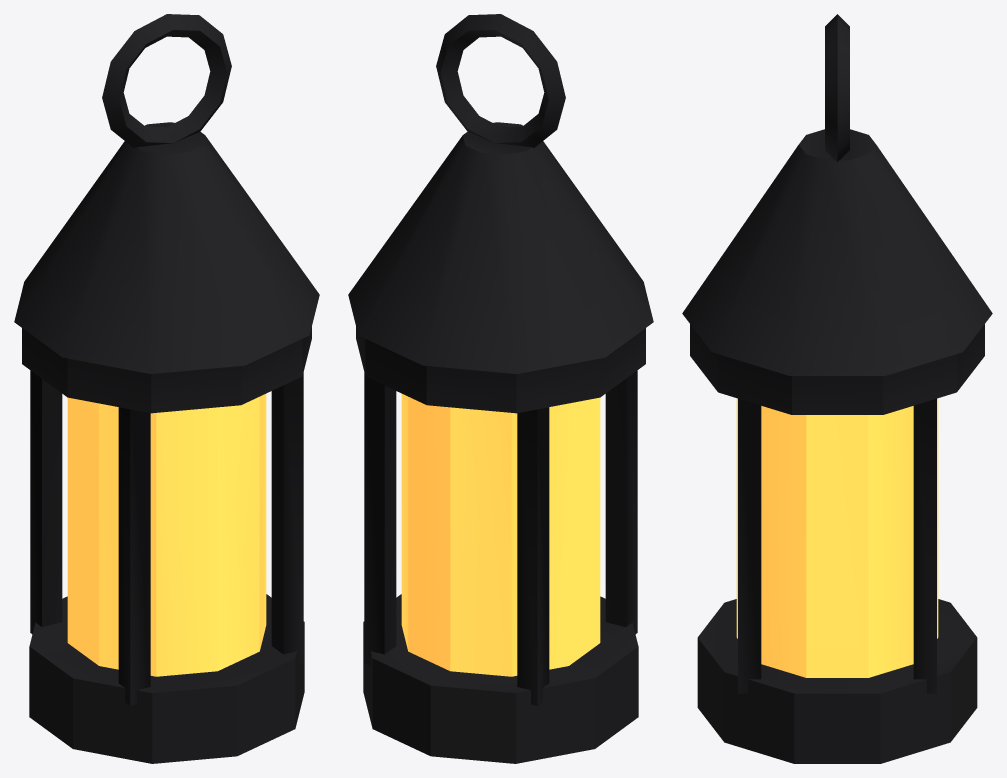
The model's file is lantern_hanging.glb.
3 views of the same model, side by side, from view 1: azimuth 30°, elevation 25°; view 2: azimuth 150°, elevation 25°; view 3: azimuth 270°, elevation 25° (orthographic).
Parts seen in each view (by area): view 1: LanternHanging; view 2: LanternHanging; view 3: LanternHanging.
Part boxes in pixels (x1=…): LanternHanging: x1=14, y1=14, x2=319, y2=763; LanternHanging: x1=348, y1=14, x2=653, y2=763; LanternHanging: x1=682, y1=14, x2=992, y2=763.
Bounding box in the file's own units: 0.1902 × 0.488 × 0.2.
